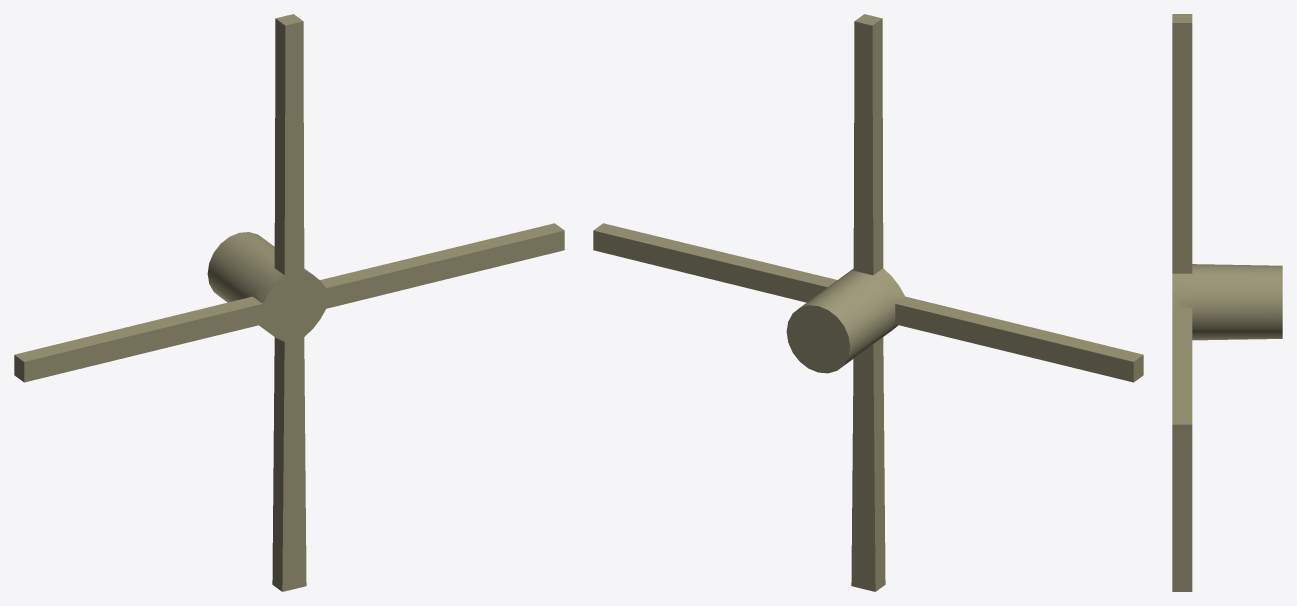
File: turbine.fbx
3 renders of one model, left to right at view 1: azimuth 30°, elevation 25°; view 2: azimuth 150°, elevation 25°; view 3: azimuth 270°, elevation 25°, orthographic.
Parts seen in each view (by area): view 1: Turbine; view 2: Turbine; view 3: Turbine.
Part boxes in pixels (box(x1,y1,x2,y2)): Turbine: box(14, 14, 564, 591); Turbine: box(593, 14, 1143, 591); Turbine: box(1172, 14, 1282, 591).
Bounding box in the file's own units: 3.4 × 3.4 × 0.6.
